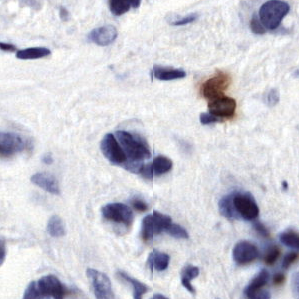Lymphocyte: (202, 85, 240, 118)
